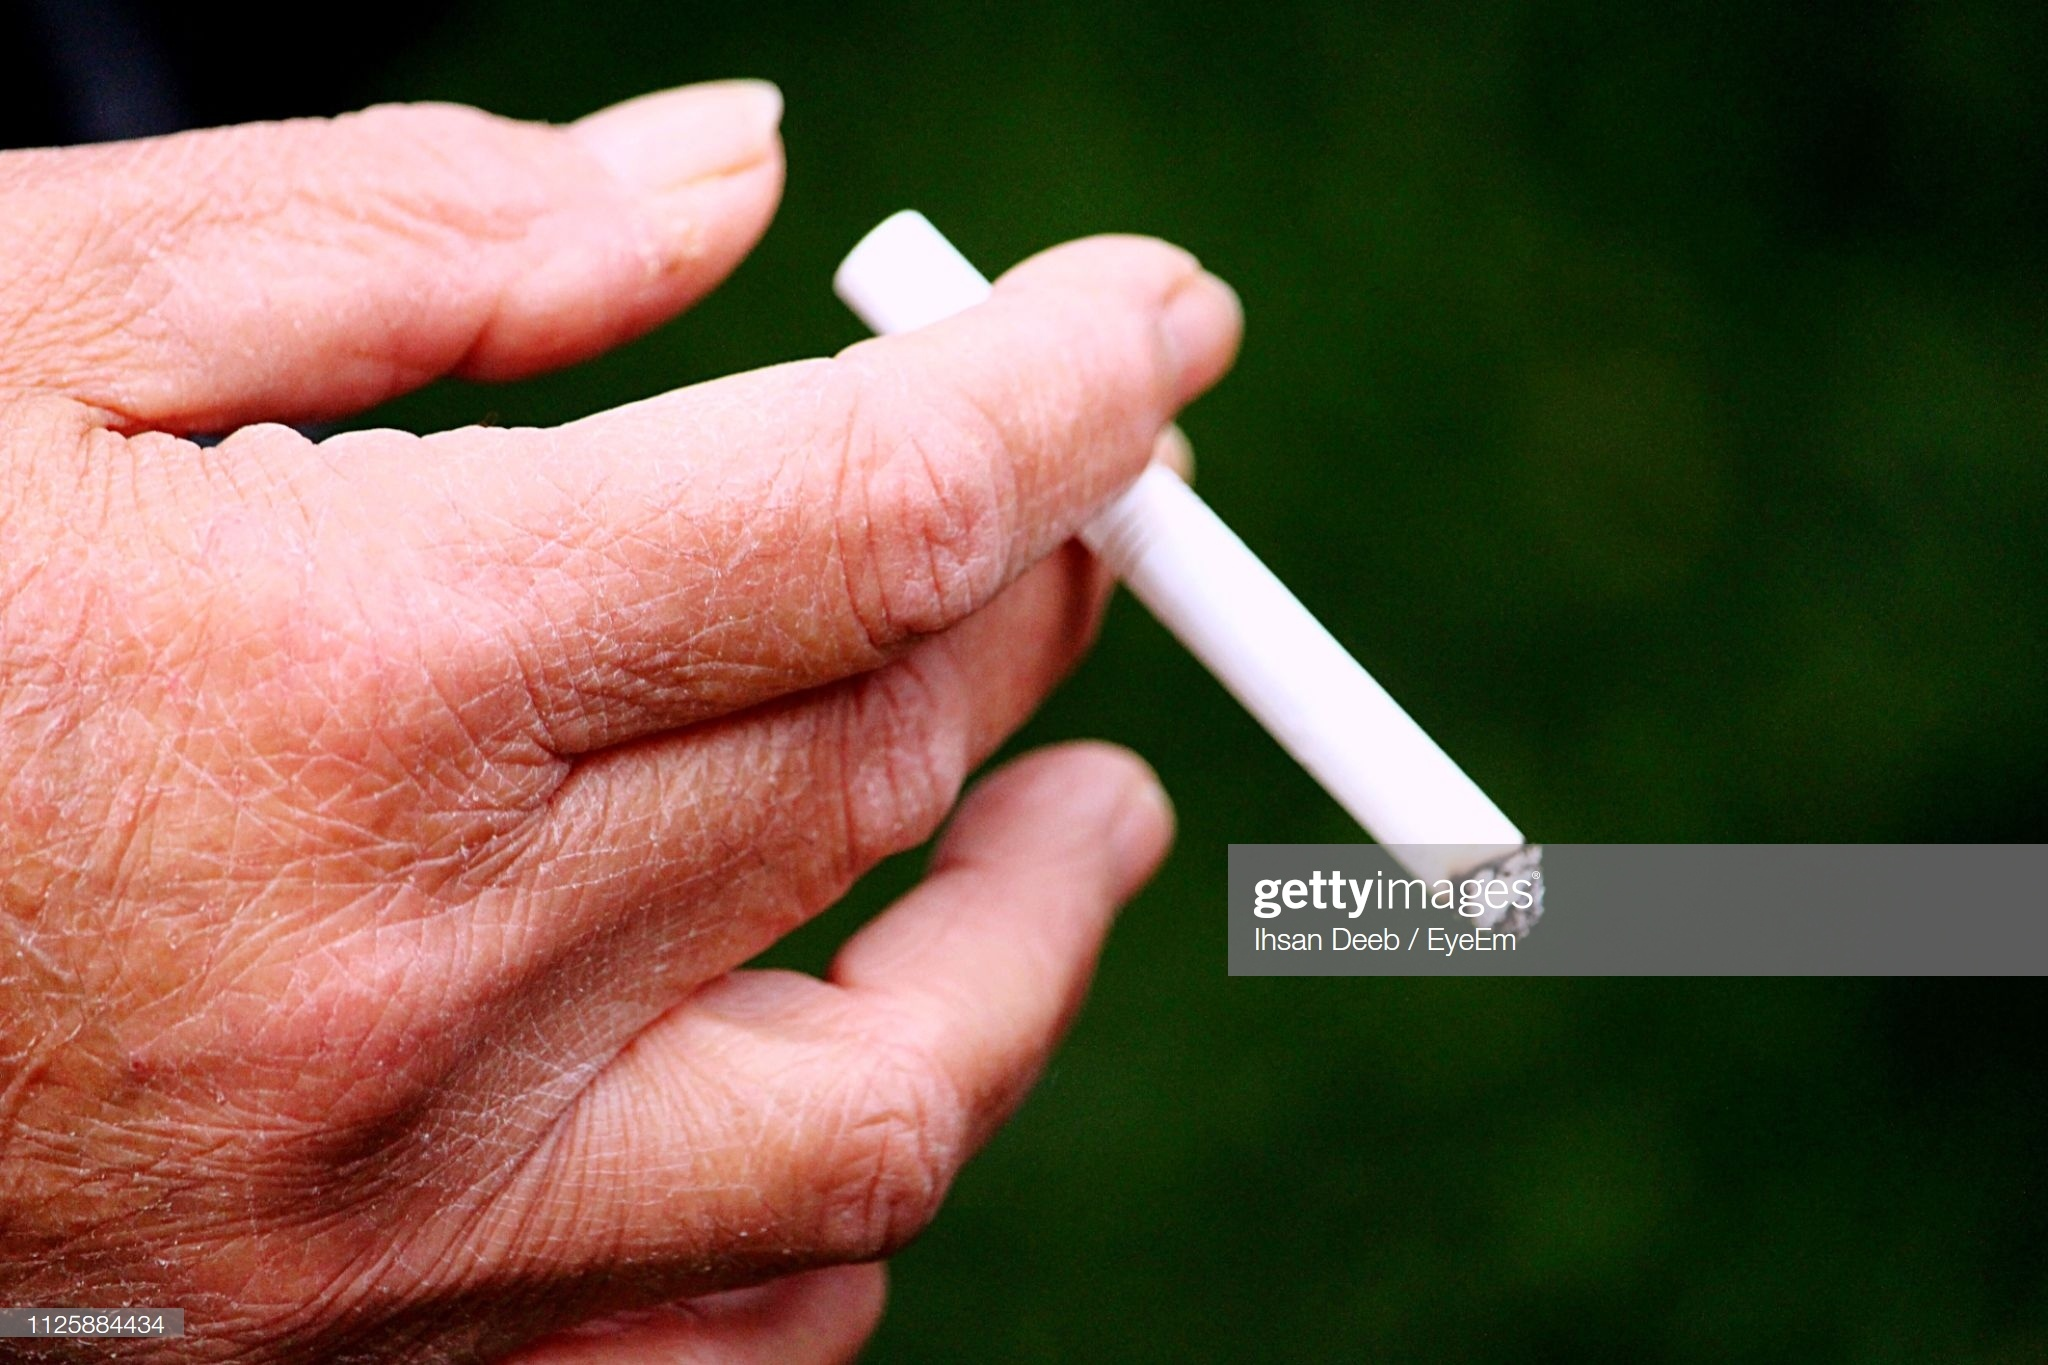sigaretta: (837, 212, 1542, 948)
